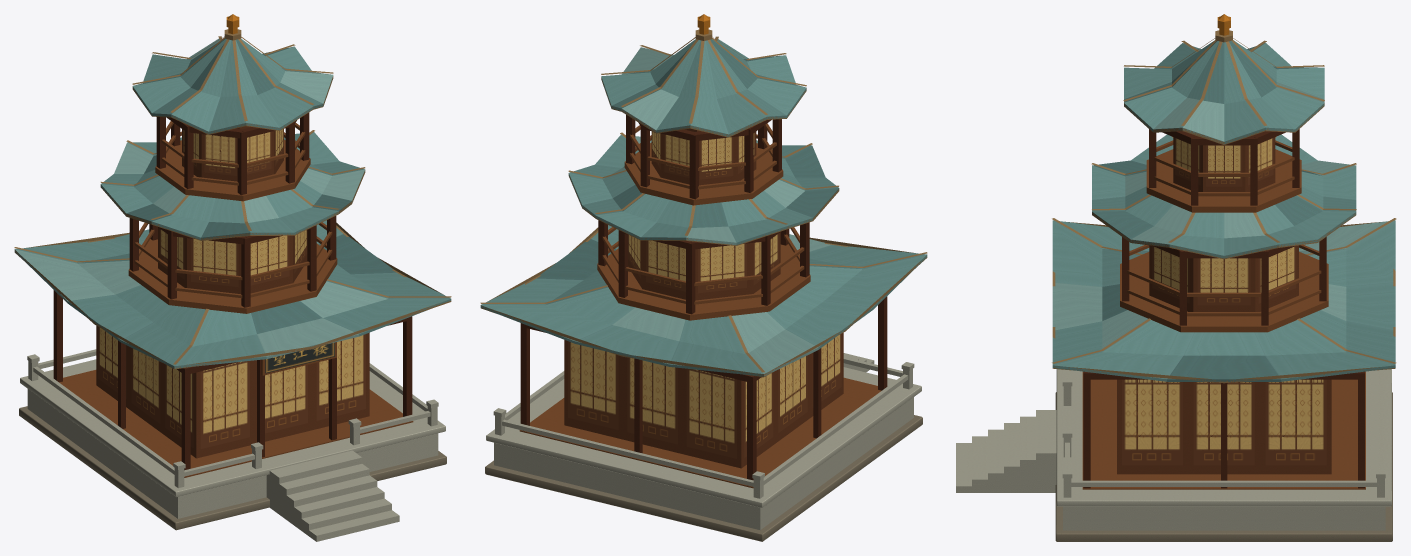
File: wangjiang_tower.glb
3 renders of one model, left to right at view 1: azimuth 30°, elevation 25°; view 2: azimuth 150°, elevation 25°; view 3: azimuth 270°, elevation 25°, orthographic. The views are drawn at different scales.
Visible parts, largest first — view 1: Tower_StoneBaseAndStairs, Tower_LowerStorey, Tower_LowerRoof, Tower_MiddleStorey, Tower_UpperRoof, Tower_MiddleRoof, Tower_UpperStorey, Tower_NamePlaque; view 2: Tower_LowerStorey, Tower_StoneBaseAndStairs, Tower_LowerRoof, Tower_MiddleStorey, Tower_UpperRoof, Tower_MiddleRoof, Tower_UpperStorey; view 3: Tower_StoneBaseAndStairs, Tower_LowerRoof, Tower_LowerStorey, Tower_MiddleRoof, Tower_UpperRoof, Tower_MiddleStorey, Tower_UpperStorey.
Boxes of the visible parts, x1,y1,x2,y2 form: Tower_StoneBaseAndStairs: [19, 349, 446, 541]; Tower_LowerStorey: [53, 290, 413, 477]; Tower_LowerRoof: [14, 220, 451, 369]; Tower_MiddleStorey: [128, 216, 337, 313]; Tower_UpperRoof: [132, 36, 333, 134]; Tower_MiddleRoof: [100, 130, 365, 240]; Tower_UpperStorey: [155, 112, 310, 201]; Tower_NamePlaque: [261, 342, 336, 375]; Tower_LowerStorey: [519, 296, 887, 488]; Tower_StoneBaseAndStairs: [485, 353, 922, 541]; Tower_LowerRoof: [480, 225, 927, 377]; Tower_MiddleStorey: [597, 220, 810, 320]; Tower_UpperRoof: [601, 36, 806, 137]; Tower_MiddleRoof: [568, 132, 839, 245]; Tower_UpperStorey: [624, 115, 783, 205]; Tower_StoneBaseAndStairs: [956, 369, 1392, 541]; Tower_LowerRoof: [1052, 218, 1396, 383]; Tower_LowerStorey: [1082, 371, 1365, 489]; Tower_MiddleRoof: [1091, 134, 1356, 259]; Tower_UpperRoof: [1123, 38, 1324, 145]; Tower_MiddleStorey: [1120, 237, 1328, 332]; Tower_UpperStorey: [1146, 129, 1301, 212].
Size of the model in its own units: 7.12 by 10.4 by 9.09.
Materials: 12 (12 with a texture image).
